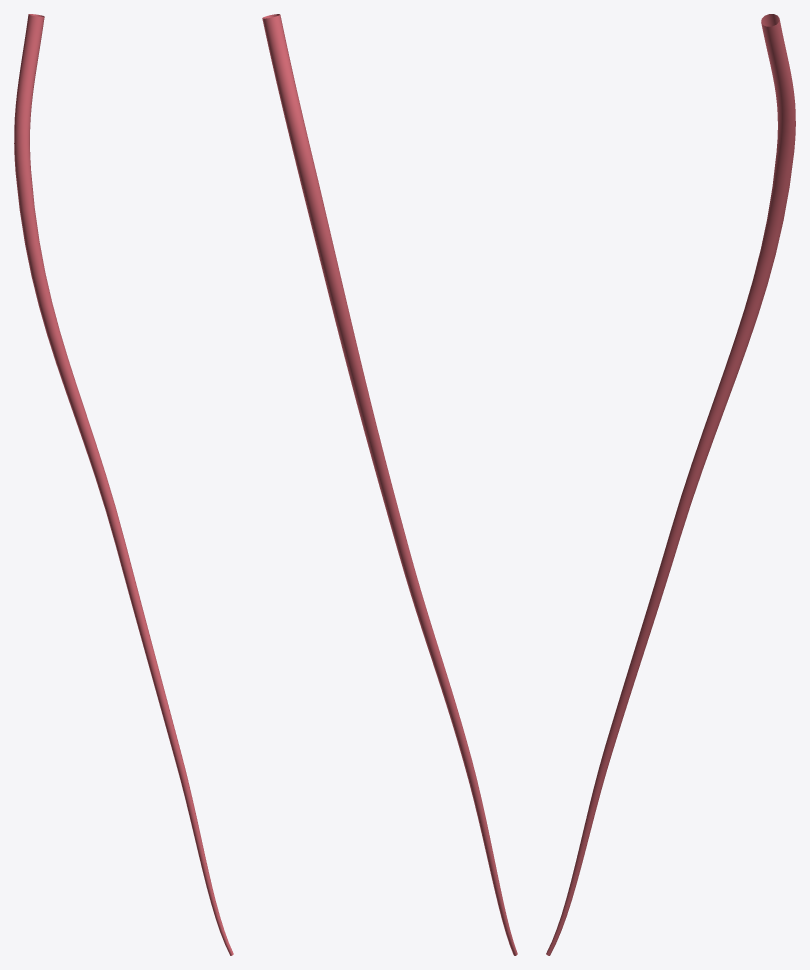
The picture shows the model from 3 angles, left to right: view 1: azimuth 90°, elevation 25°; view 2: azimuth 150°, elevation 25°; view 3: azimuth 270°, elevation 25°; orthographic projection. The views are drawn at different scales.
Visible parts, largest first — view 1: ZA_d79cae4d03616201; view 2: ZA_d79cae4d03616201; view 3: ZA_d79cae4d03616201.
Boxes of the visible parts, x1=… form: ZA_d79cae4d03616201: x1=14, y1=14, x2=233, y2=955; ZA_d79cae4d03616201: x1=262, y1=14, x2=517, y2=955; ZA_d79cae4d03616201: x1=546, y1=14, x2=795, y2=955.
Size of the model in its own units: 0.0189 by 0.1235 by 0.0278.
